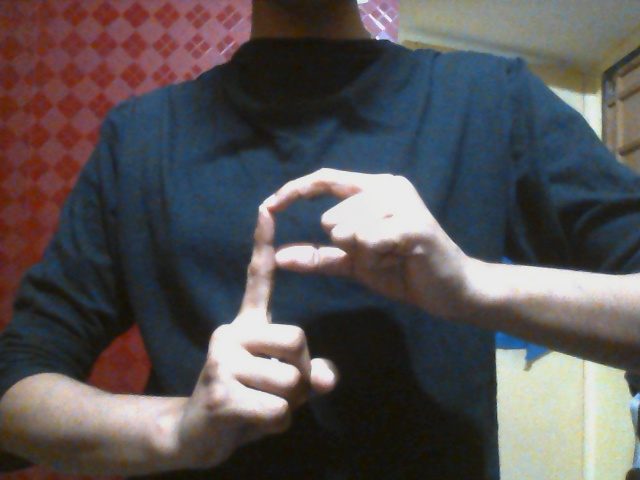P: (190, 167, 453, 447)
